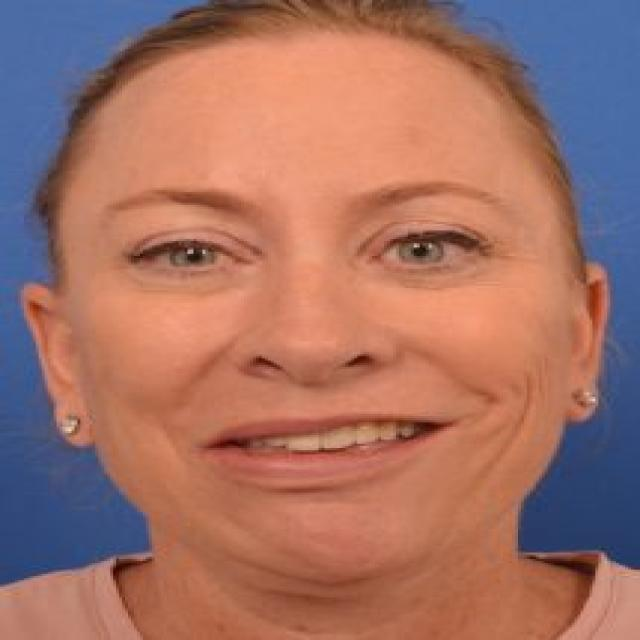stroke_face: (25, 9, 605, 588)
